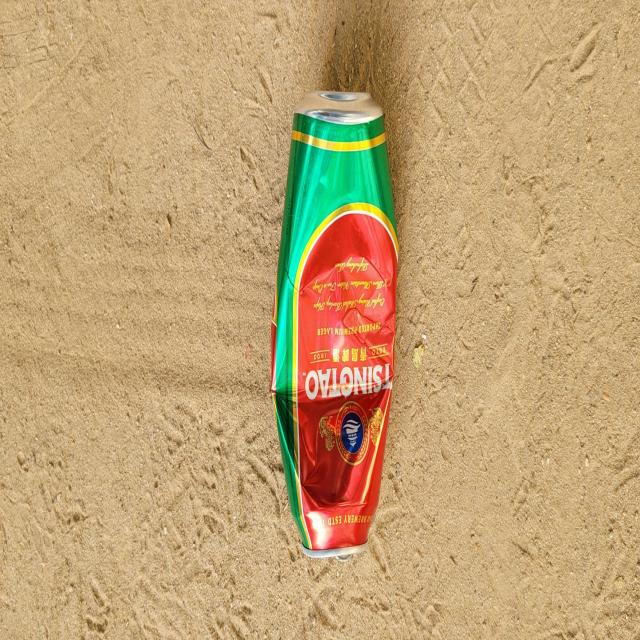can: (271, 89, 399, 557)
